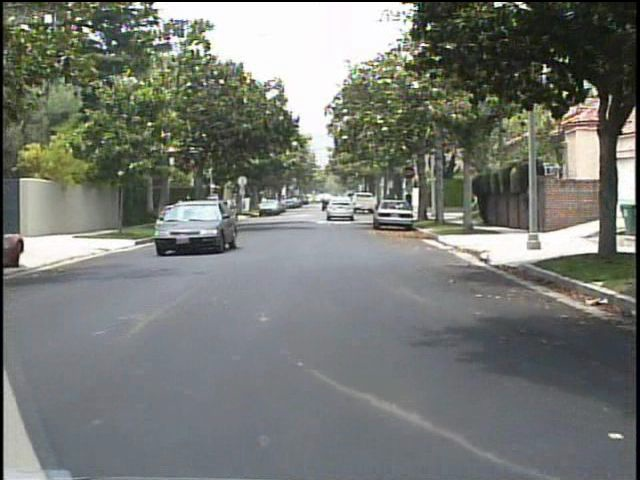person: (521, 183, 540, 238), (171, 194, 187, 230)
